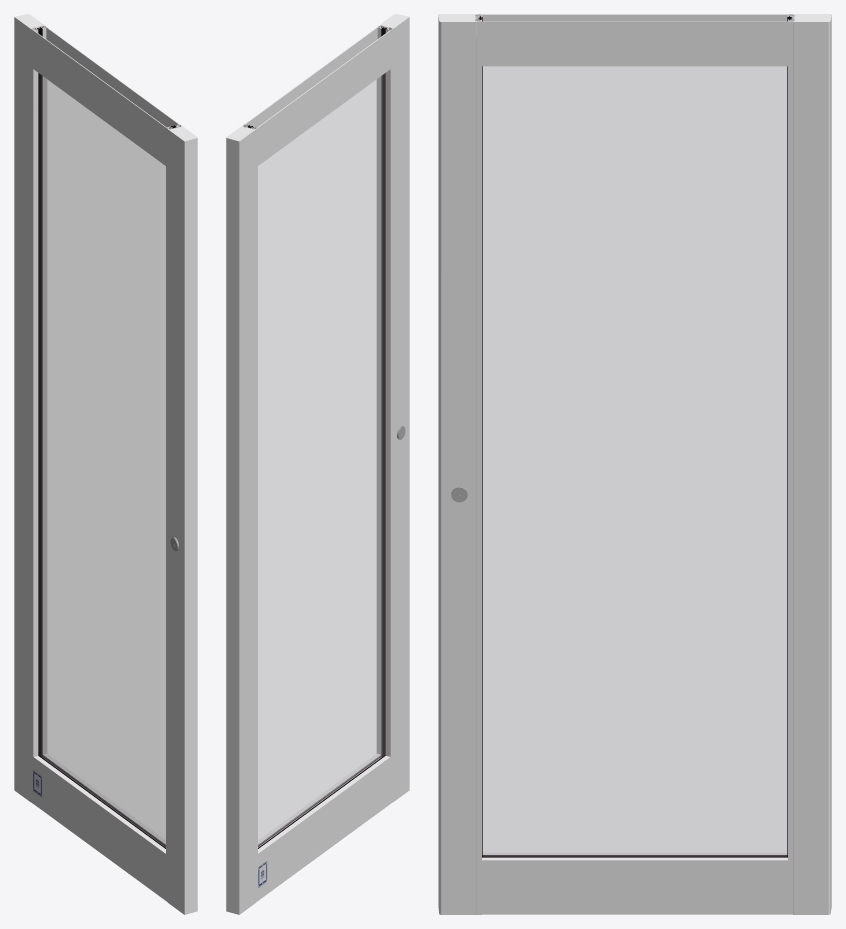
File: D350_Slab_WT.glb
3 views of the same model, side by side, from view 1: azimuth 30°, elevation 25°; view 2: azimuth 150°, elevation 25°; view 3: azimuth 270°, elevation 25° (orthographic). The views are drawn at different scales.
Visible parts, largest first — view 1: Cube.010, PROFILE_curve_.063, D350, PROFILE_curve_.062, PROFILE_curve_.061, rubber_curve_.063, rubber_curve_.064; view 2: Cube.010, D350, PROFILE_curve_.063, PROFILE_curve_.062, PROFILE_curve_.061, rubber_curve_.061, rubber_curve_.062; view 3: Cube.010, D350, PROFILE_curve_.063, PROFILE_curve_.062, PROFILE_curve_.061, rubber_curve_.061, rubber_curve_.063.
Boxes of the visible parts, <box> form: Cube.010: <box>38,73,165,847</box>; PROFILE_curve_.063: <box>166,124,197,914</box>; D350: <box>14,14,47,803</box>; PROFILE_curve_.062: <box>33,754,165,900</box>; PROFILE_curve_.061: <box>33,27,178,165</box>; rubber_curve_.063: <box>39,27,42,757</box>; rubber_curve_.064: <box>36,28,39,755</box>; Cube.010: <box>258,73,385,847</box>; D350: <box>226,124,257,914</box>; PROFILE_curve_.063: <box>376,14,409,803</box>; PROFILE_curve_.062: <box>258,754,390,900</box>; PROFILE_curve_.061: <box>245,27,390,165</box>; rubber_curve_.061: <box>381,27,384,757</box>; rubber_curve_.062: <box>384,28,387,755</box>; Cube.010: <box>483,66,786,857</box>; D350: <box>788,14,831,914</box>; PROFILE_curve_.063: <box>438,14,481,914</box>; PROFILE_curve_.062: <box>482,852,787,914</box>; PROFILE_curve_.061: <box>482,14,787,66</box>; rubber_curve_.061: <box>478,18,482,857</box>; rubber_curve_.063: <box>787,18,791,857</box>.
Size of the model in its own units: 0.054 by 2.29 by 0.9149.
Materials: 5 (1 with a texture image).
